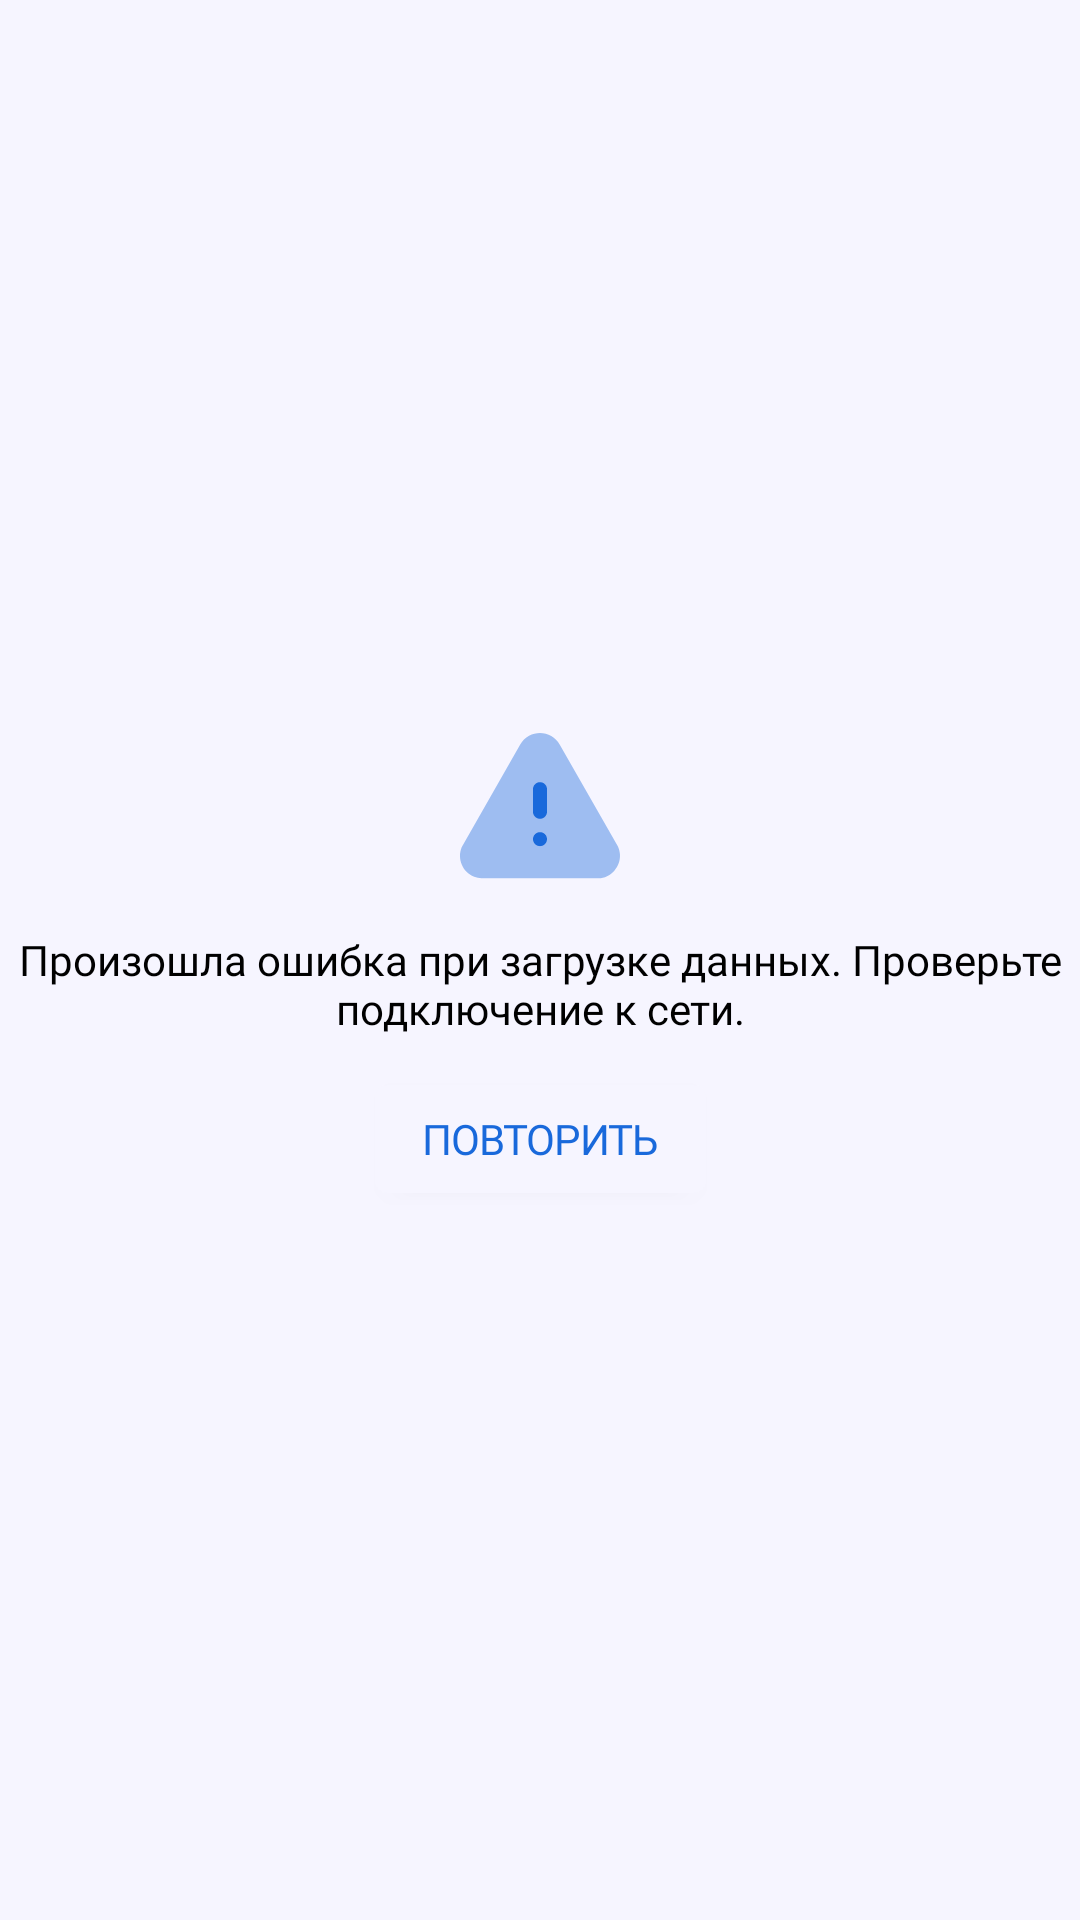

Named icons in this screenshot (1080px x 1920px) and their bounding boxes, (x1, y1, x2, y2):
danger: (460, 733, 620, 878)
